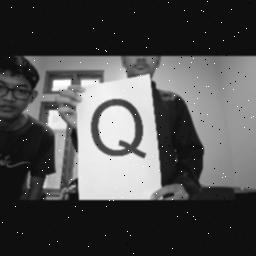q: (88, 97, 150, 169)
